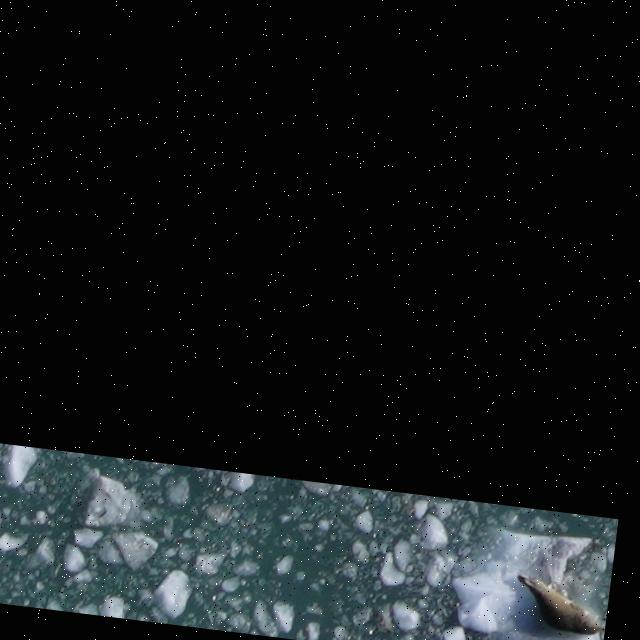seal: (506, 571, 610, 640)
